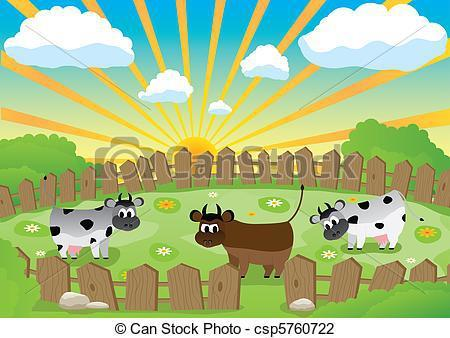cow: (183, 204, 311, 279), (303, 182, 407, 250), (42, 196, 147, 261)
